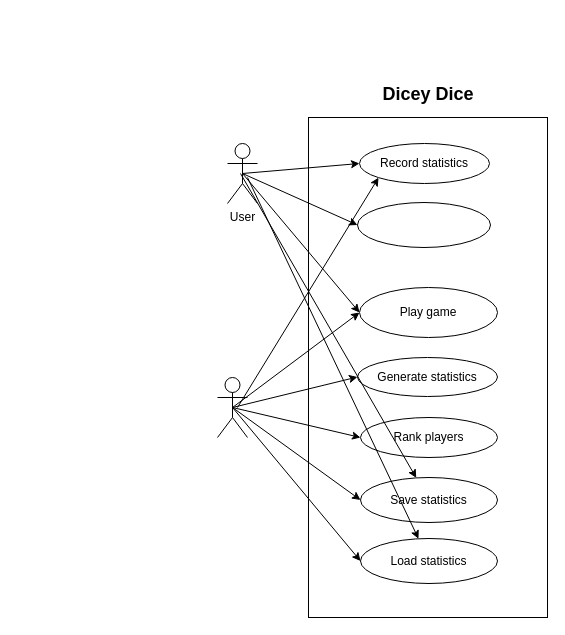
The diagram is 565 pixels wide and 635 high, and some of its shapes have lost their labels. The centre of each missing label's shape, as x and y in pixels:
"Game" goes at (232,407).
"View statistics" goes at (423,225).
